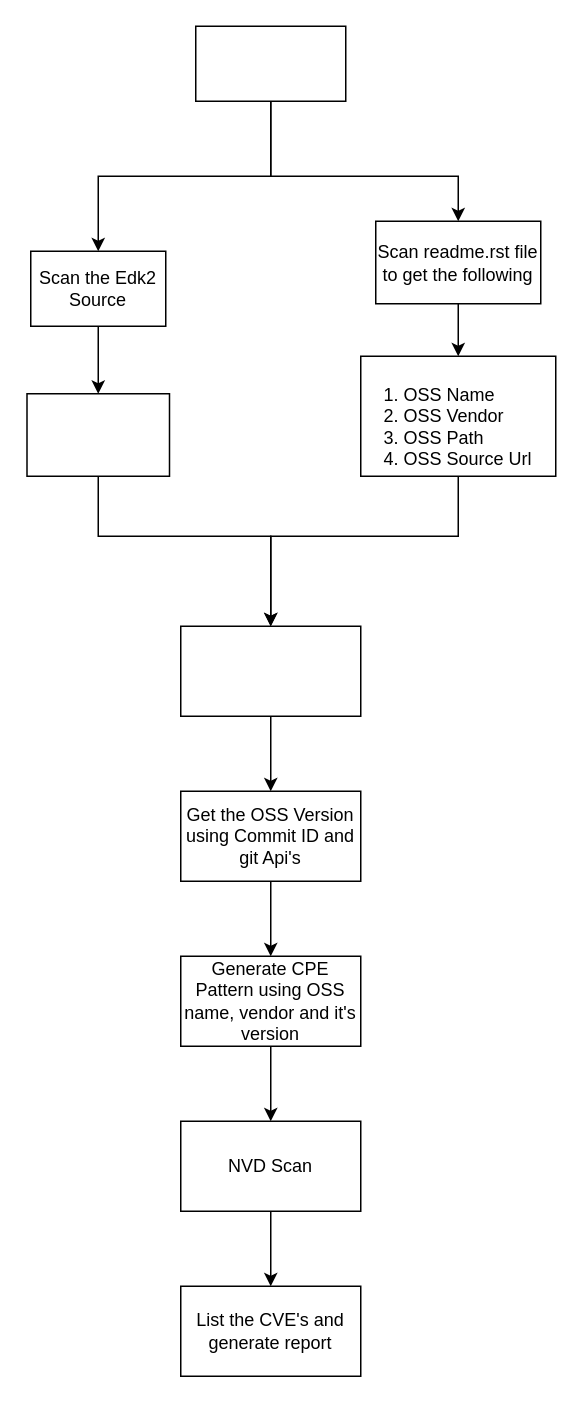
This 582x1403 diagram has some shape labels left out. The shapes that lost their labels are listed below. From the top down, each one's box as (x1, y1, x2, y2) in pixels, then its label:
(194, 25, 346, 101): EDK2 Source
(26, 392, 170, 476): Get the EDK2 Version from the Source
(179, 625, 361, 716): Get OSS Commit ID using Git Api's
